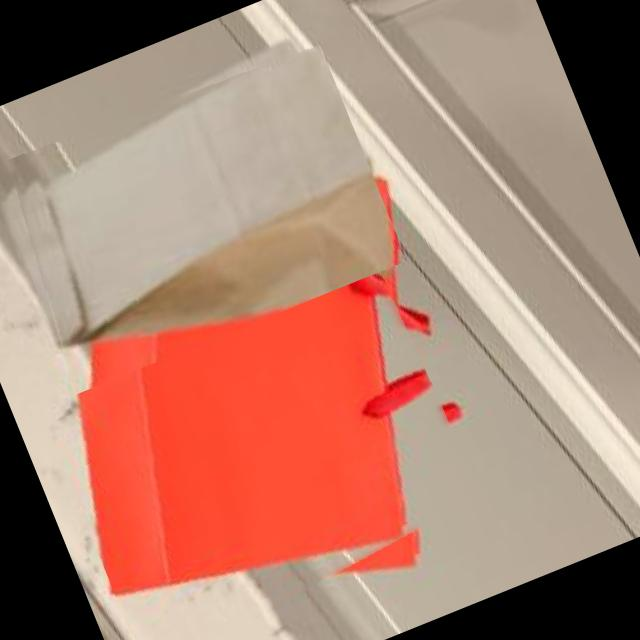PaperCardboard: (69, 231, 406, 595), (26, 44, 388, 345)
